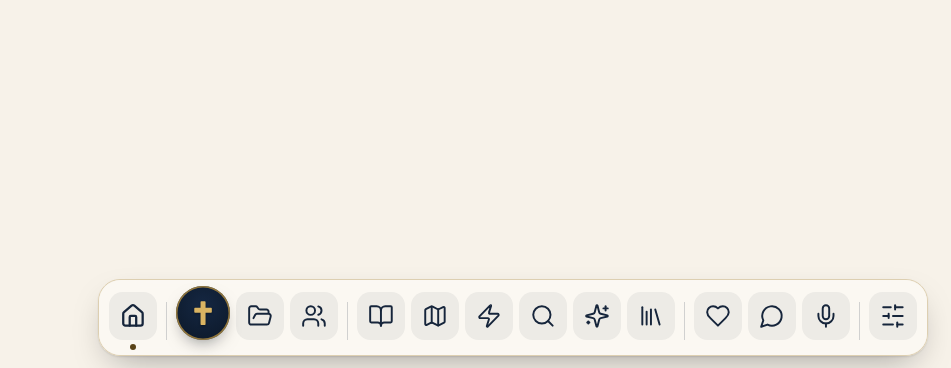
Test: Dock (versão web) › mostra a passagem em preparação e os últimos esboços guardados no aparelho
Focus the link named "Oficina de Sermões" at (203, 313), box [176,286,230,340]
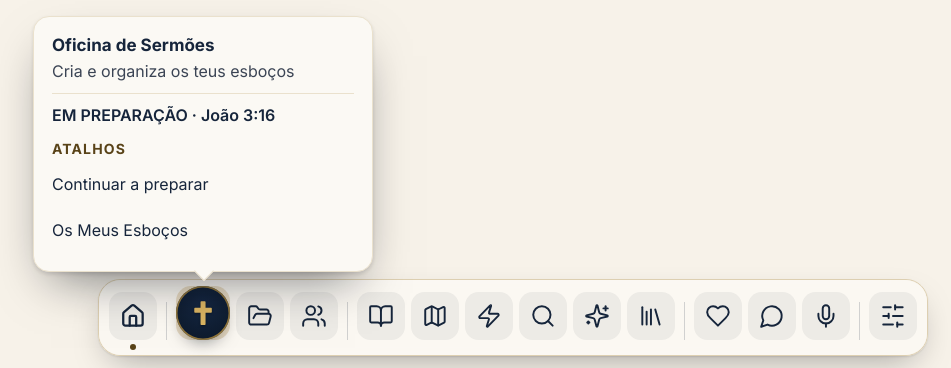
Check: the element "Oficina de Sermões" shows "EM PREPARAÇÃO · João 3:16", box [52,105,275,125]
# "Os Meus Esboços" também é atalho no balão da Oficina: pega o ícone do Dock.
Focus the link named "Os Meus Esboços" at (260, 316), box [236,292,284,340]
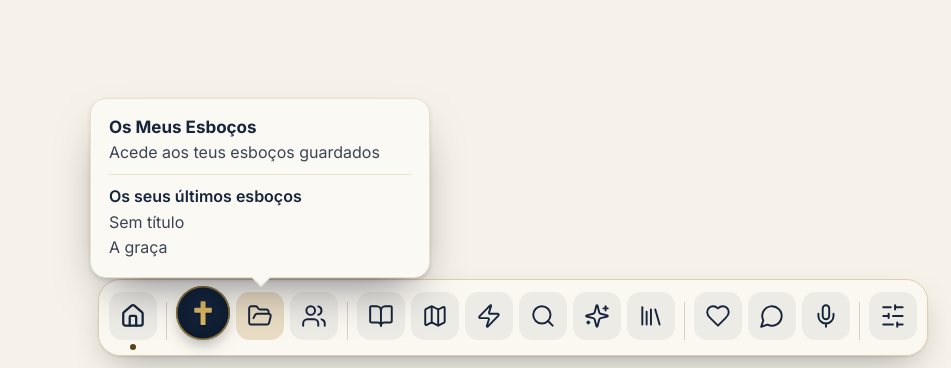
Check: the element "Os Meus Esboços" shows "Sem título", box [109,212,184,232]
Check: the element "Os Meus Esboços" shows "A graça", box [109,237,168,257]
